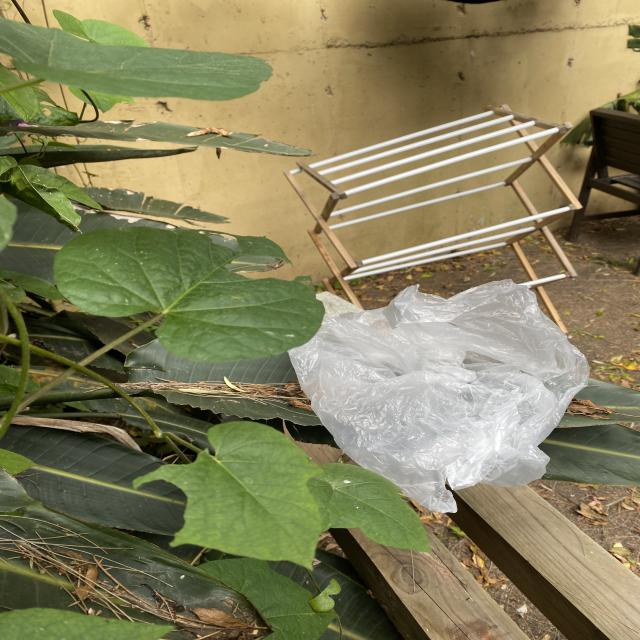cloth: (284, 274, 590, 518)
